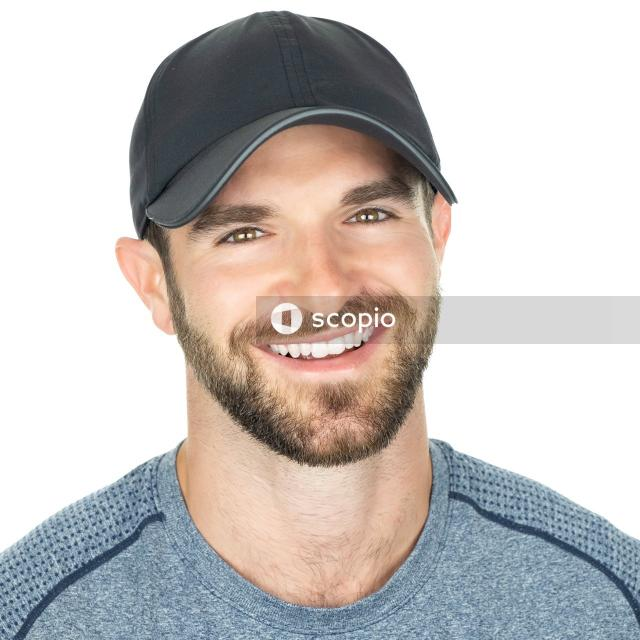3_gorra: (126, 10, 458, 242)
